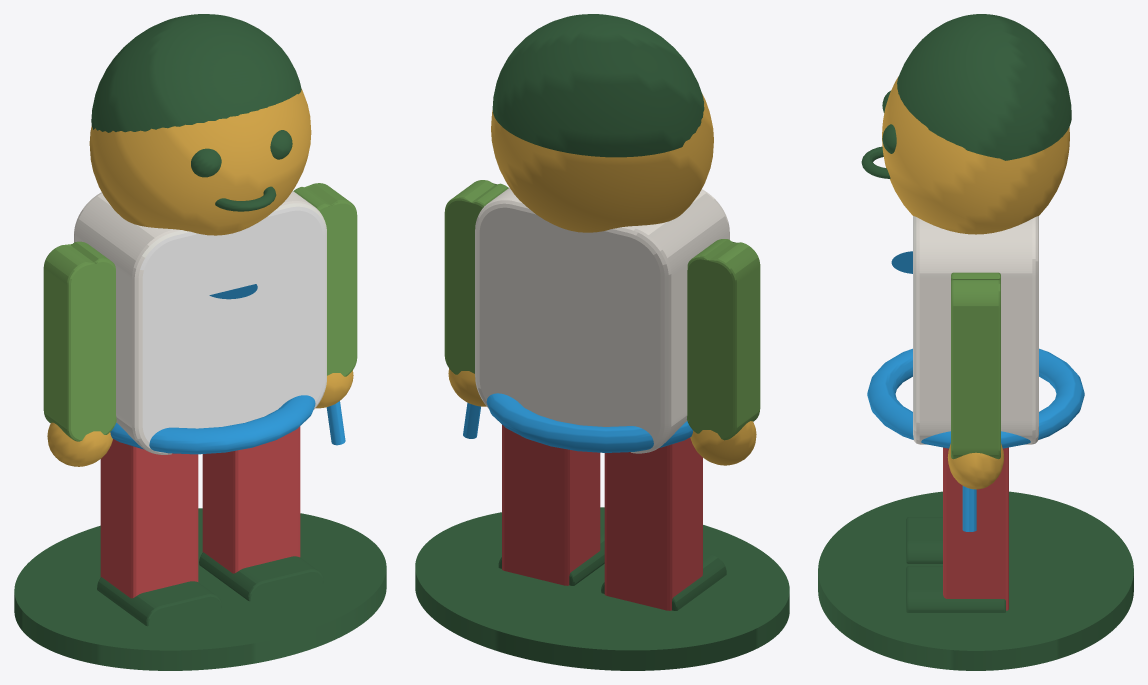
3 views of the same model, side by side, from view 1: azimuth 30°, elevation 25°; view 2: azimuth 150°, elevation 25°; view 3: azimuth 270°, elevation 25° (orthographic). The views are drawn at different scales.
Visible parts, largest first — view 1: card_1113; view 2: card_1113; view 3: card_1113.
Boxes of the visible parts, box(x1,y1,x2,y2) form: card_1113: box(14, 14, 386, 670); card_1113: box(415, 14, 789, 670); card_1113: box(818, 14, 1133, 670).
Size of the model in its own units: 0.598 by 1 by 0.4951.
